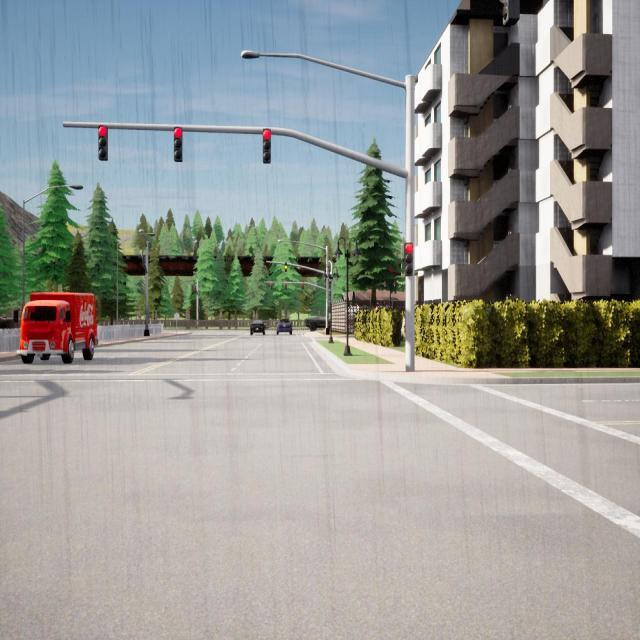Traffic_Signs: (174, 312, 180, 320)
Vehicle: (19, 292, 97, 363), (305, 315, 326, 331), (276, 319, 292, 335), (250, 319, 265, 336)
traffic_light: (498, 0, 520, 26), (174, 127, 183, 162), (404, 242, 413, 276), (99, 126, 108, 160), (263, 129, 271, 163), (142, 255, 145, 267), (285, 262, 287, 272), (302, 282, 304, 290), (270, 282, 272, 289), (285, 283, 287, 289), (198, 307, 200, 312), (193, 286, 194, 292)
